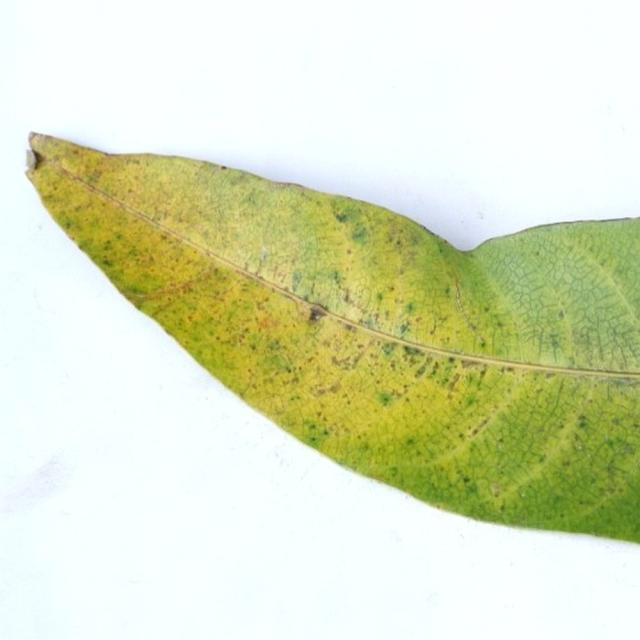Mango: (28, 134, 639, 541)
Powdery_Mildew: (599, 442, 634, 486), (573, 326, 605, 363), (369, 382, 402, 415), (219, 171, 257, 195), (569, 423, 596, 454), (121, 276, 154, 296), (413, 356, 440, 379), (303, 420, 328, 441), (470, 414, 492, 437), (571, 410, 596, 430), (614, 438, 638, 456), (459, 358, 486, 372), (548, 333, 563, 358), (331, 207, 350, 226), (610, 375, 637, 388), (308, 304, 327, 322), (257, 313, 277, 329), (402, 344, 422, 359), (331, 354, 352, 368), (351, 225, 368, 242), (291, 270, 303, 290), (84, 171, 100, 186), (381, 342, 396, 357), (326, 381, 342, 394), (386, 388, 403, 400), (259, 245, 268, 266), (342, 290, 353, 307), (402, 435, 416, 448), (343, 320, 357, 333), (331, 269, 342, 285), (404, 301, 416, 314), (399, 321, 410, 334), (281, 363, 293, 374), (388, 464, 399, 476), (490, 483, 501, 495), (306, 421, 317, 432), (101, 257, 113, 267), (544, 371, 557, 380), (470, 425, 480, 436), (375, 291, 384, 303), (613, 417, 623, 427), (495, 319, 505, 328), (421, 223, 431, 232), (504, 365, 515, 373), (308, 434, 317, 443), (64, 220, 72, 230), (478, 337, 486, 347), (443, 285, 450, 296), (447, 356, 456, 364), (558, 309, 565, 319), (463, 476, 471, 484), (357, 343, 365, 351), (499, 503, 506, 512), (71, 148, 80, 155), (395, 239, 402, 247), (160, 234, 168, 241), (563, 460, 570, 467), (299, 189, 306, 196), (586, 396, 593, 403), (415, 316, 422, 323), (498, 437, 504, 444), (346, 248, 352, 255), (127, 188, 134, 194), (576, 444, 583, 450), (498, 443, 504, 450), (220, 165, 227, 170), (535, 251, 540, 256)
